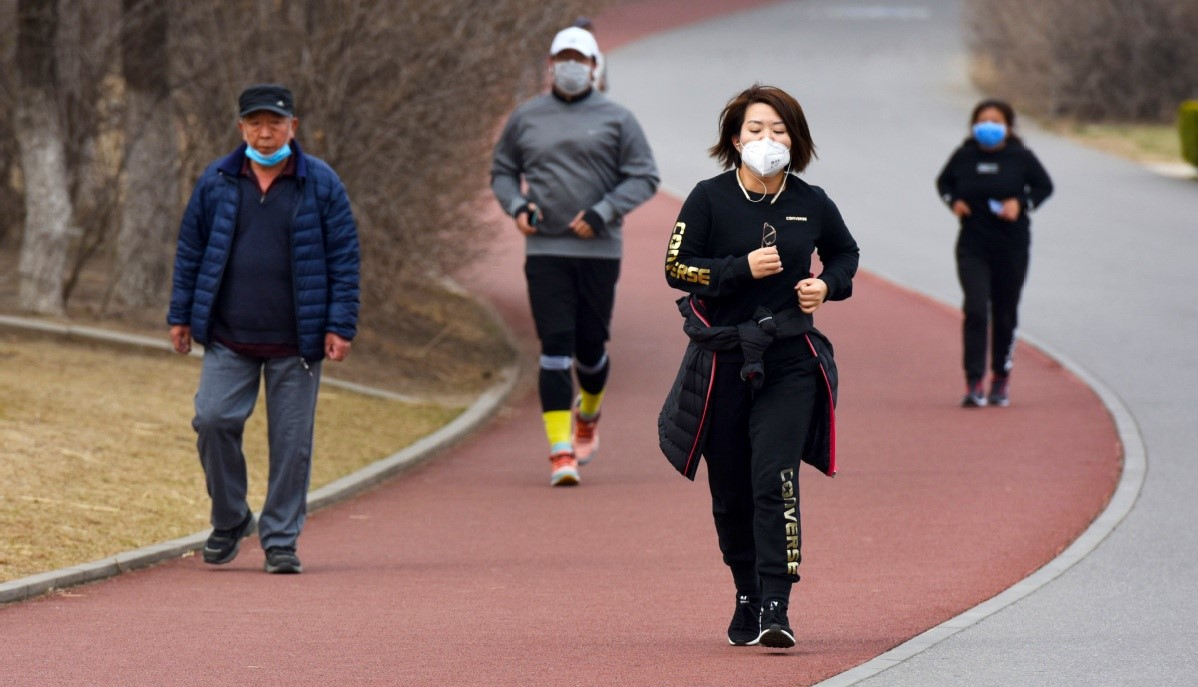face_with_mask: (228, 79, 308, 179), (725, 93, 805, 192), (541, 20, 607, 107), (962, 92, 1021, 159)
